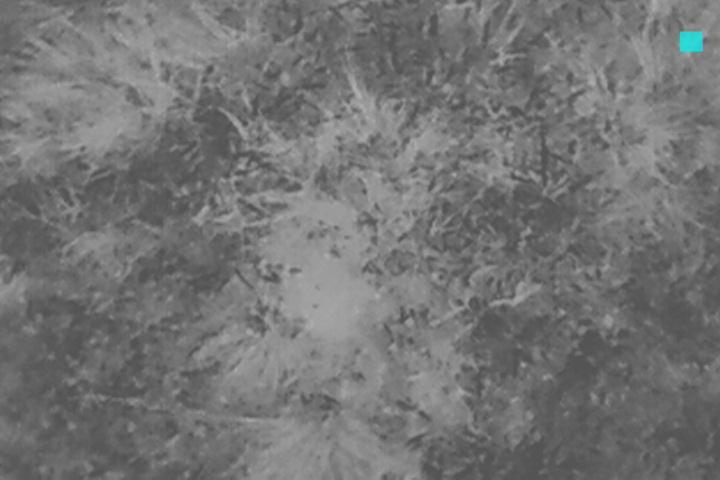landmine: (286, 263, 363, 341)
